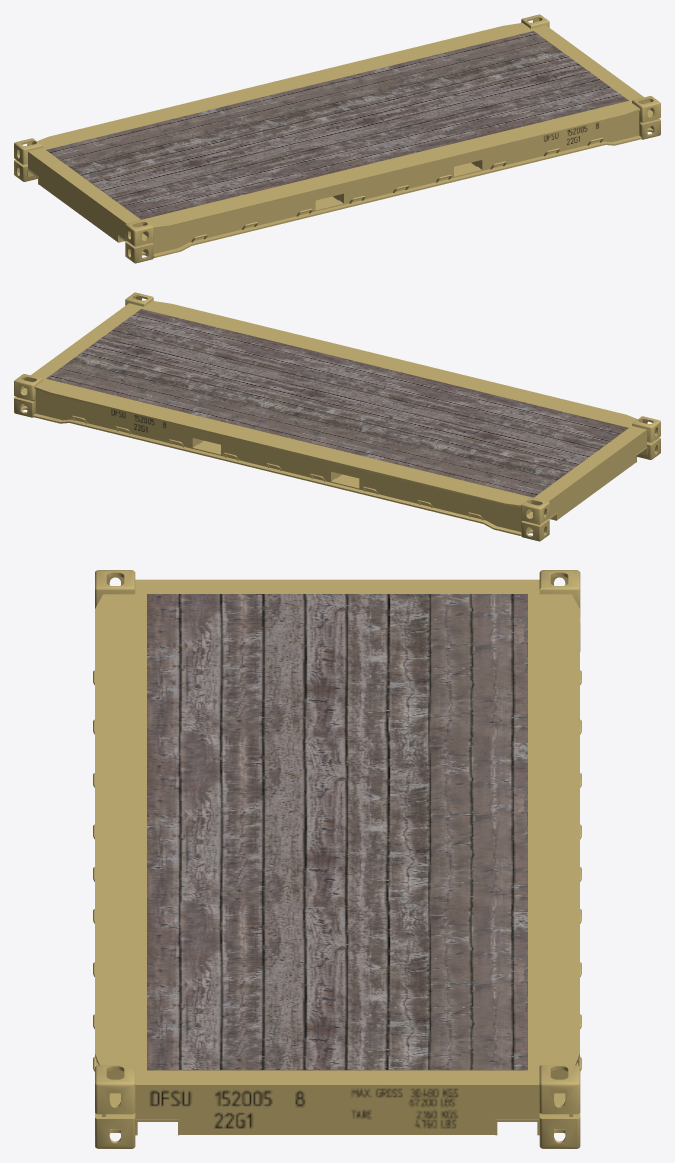
Rendered from container_platform.fbx.
3 views of the same model, one above another, from view 1: azimuth 30°, elevation 25°; view 2: azimuth 150°, elevation 25°; view 3: azimuth 270°, elevation 25° (orthographic). The views are drawn at different scales.
Visible parts, largest first — view 1: node_f14b7d87_9fa3_45d8_a6c5_4883d9bc56d6_mesh0, node_a9ad3733_558d_4d8d_8817_84dd06b8e436_mesh0; view 2: node_f14b7d87_9fa3_45d8_a6c5_4883d9bc56d6_mesh0, node_a9ad3733_558d_4d8d_8817_84dd06b8e436_mesh0; view 3: node_f14b7d87_9fa3_45d8_a6c5_4883d9bc56d6_mesh0, node_a9ad3733_558d_4d8d_8817_84dd06b8e436_mesh0.
Part boxes in pixels (x1,y1,x2,y2): node_f14b7d87_9fa3_45d8_a6c5_4883d9bc56d6_mesh0: (46,31,628,219); node_a9ad3733_558d_4d8d_8817_84dd06b8e436_mesh0: (14,14,660,263); node_f14b7d87_9fa3_45d8_a6c5_4883d9bc56d6_mesh0: (46,309,628,497); node_a9ad3733_558d_4d8d_8817_84dd06b8e436_mesh0: (14,292,660,541); node_f14b7d87_9fa3_45d8_a6c5_4883d9bc56d6_mesh0: (147,594,527,1070); node_a9ad3733_558d_4d8d_8817_84dd06b8e436_mesh0: (93,570,581,1148).
Bounding box in the file's own units: 607 × 36.64 × 244.
2 materials, 2 textured.
